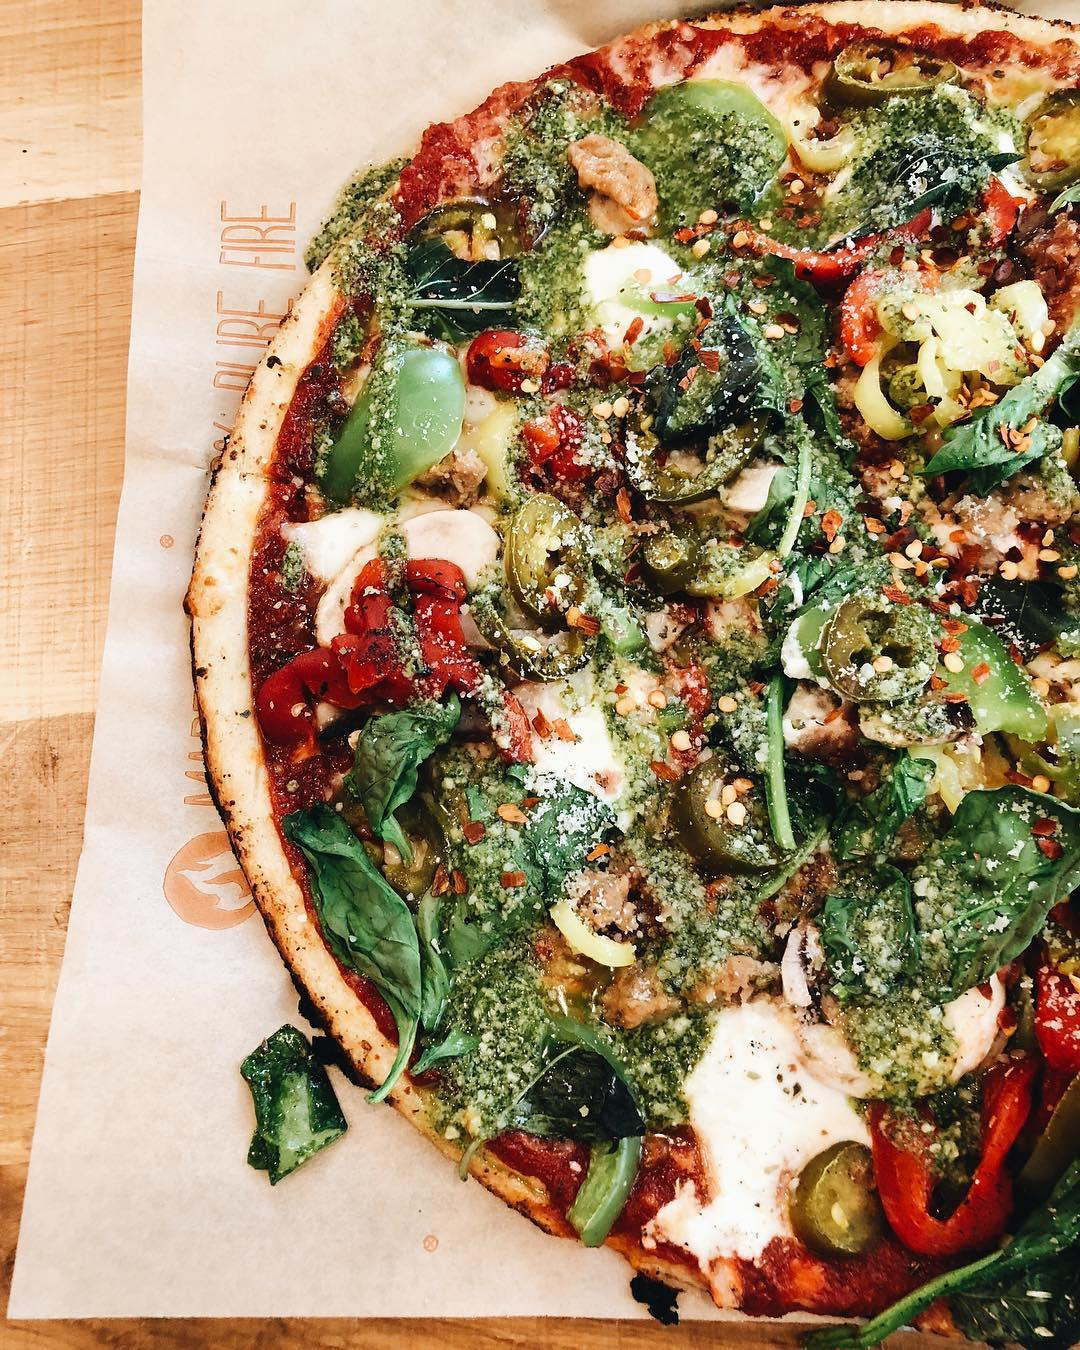Arugula: (293, 770, 528, 1025), (835, 788, 1057, 1002), (494, 1026, 642, 1239), (756, 446, 876, 680), (888, 606, 1068, 746), (926, 344, 1080, 492), (863, 88, 1016, 218), (651, 311, 828, 423), (656, 76, 785, 216), (331, 354, 463, 486), (244, 1024, 359, 1171)
Broccoli: (695, 1024, 831, 1234), (285, 516, 498, 625), (586, 236, 688, 366)
Peppers: (668, 746, 791, 886), (506, 488, 592, 635), (793, 1136, 885, 1260), (849, 341, 948, 450), (630, 516, 755, 598), (825, 596, 916, 706), (793, 68, 870, 174), (415, 201, 505, 262)
Pizza: (195, 15, 1080, 1350)
Tomatoes: (861, 1071, 1026, 1249), (336, 559, 479, 701), (736, 216, 950, 280), (251, 630, 346, 735), (1020, 965, 1080, 1098), (965, 186, 1018, 271)
